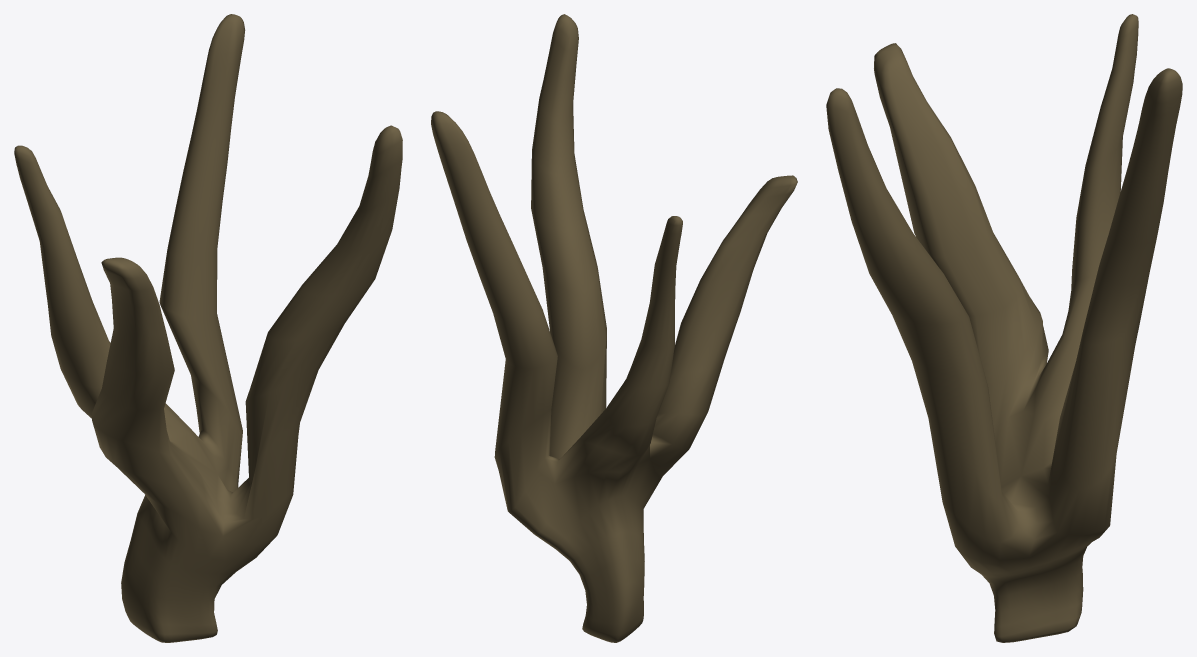
File: DecorativeShrubTrunk.fbx
The picture shows the model from 3 angles, left to right: view 1: azimuth 30°, elevation 25°; view 2: azimuth 150°, elevation 25°; view 3: azimuth 270°, elevation 25°; orthographic projection. The views are drawn at different scales.
Visible parts, largest first — view 1: DecorativeshrubTrunk; view 2: DecorativeshrubTrunk; view 3: DecorativeshrubTrunk.
Part boxes in pixels (bbox=[...]): DecorativeshrubTrunk: bbox=[14, 14, 402, 642]; DecorativeshrubTrunk: bbox=[431, 14, 797, 642]; DecorativeshrubTrunk: bbox=[826, 14, 1182, 642].
Size of the model in its own units: 52.96 by 99.77 by 51.39.
